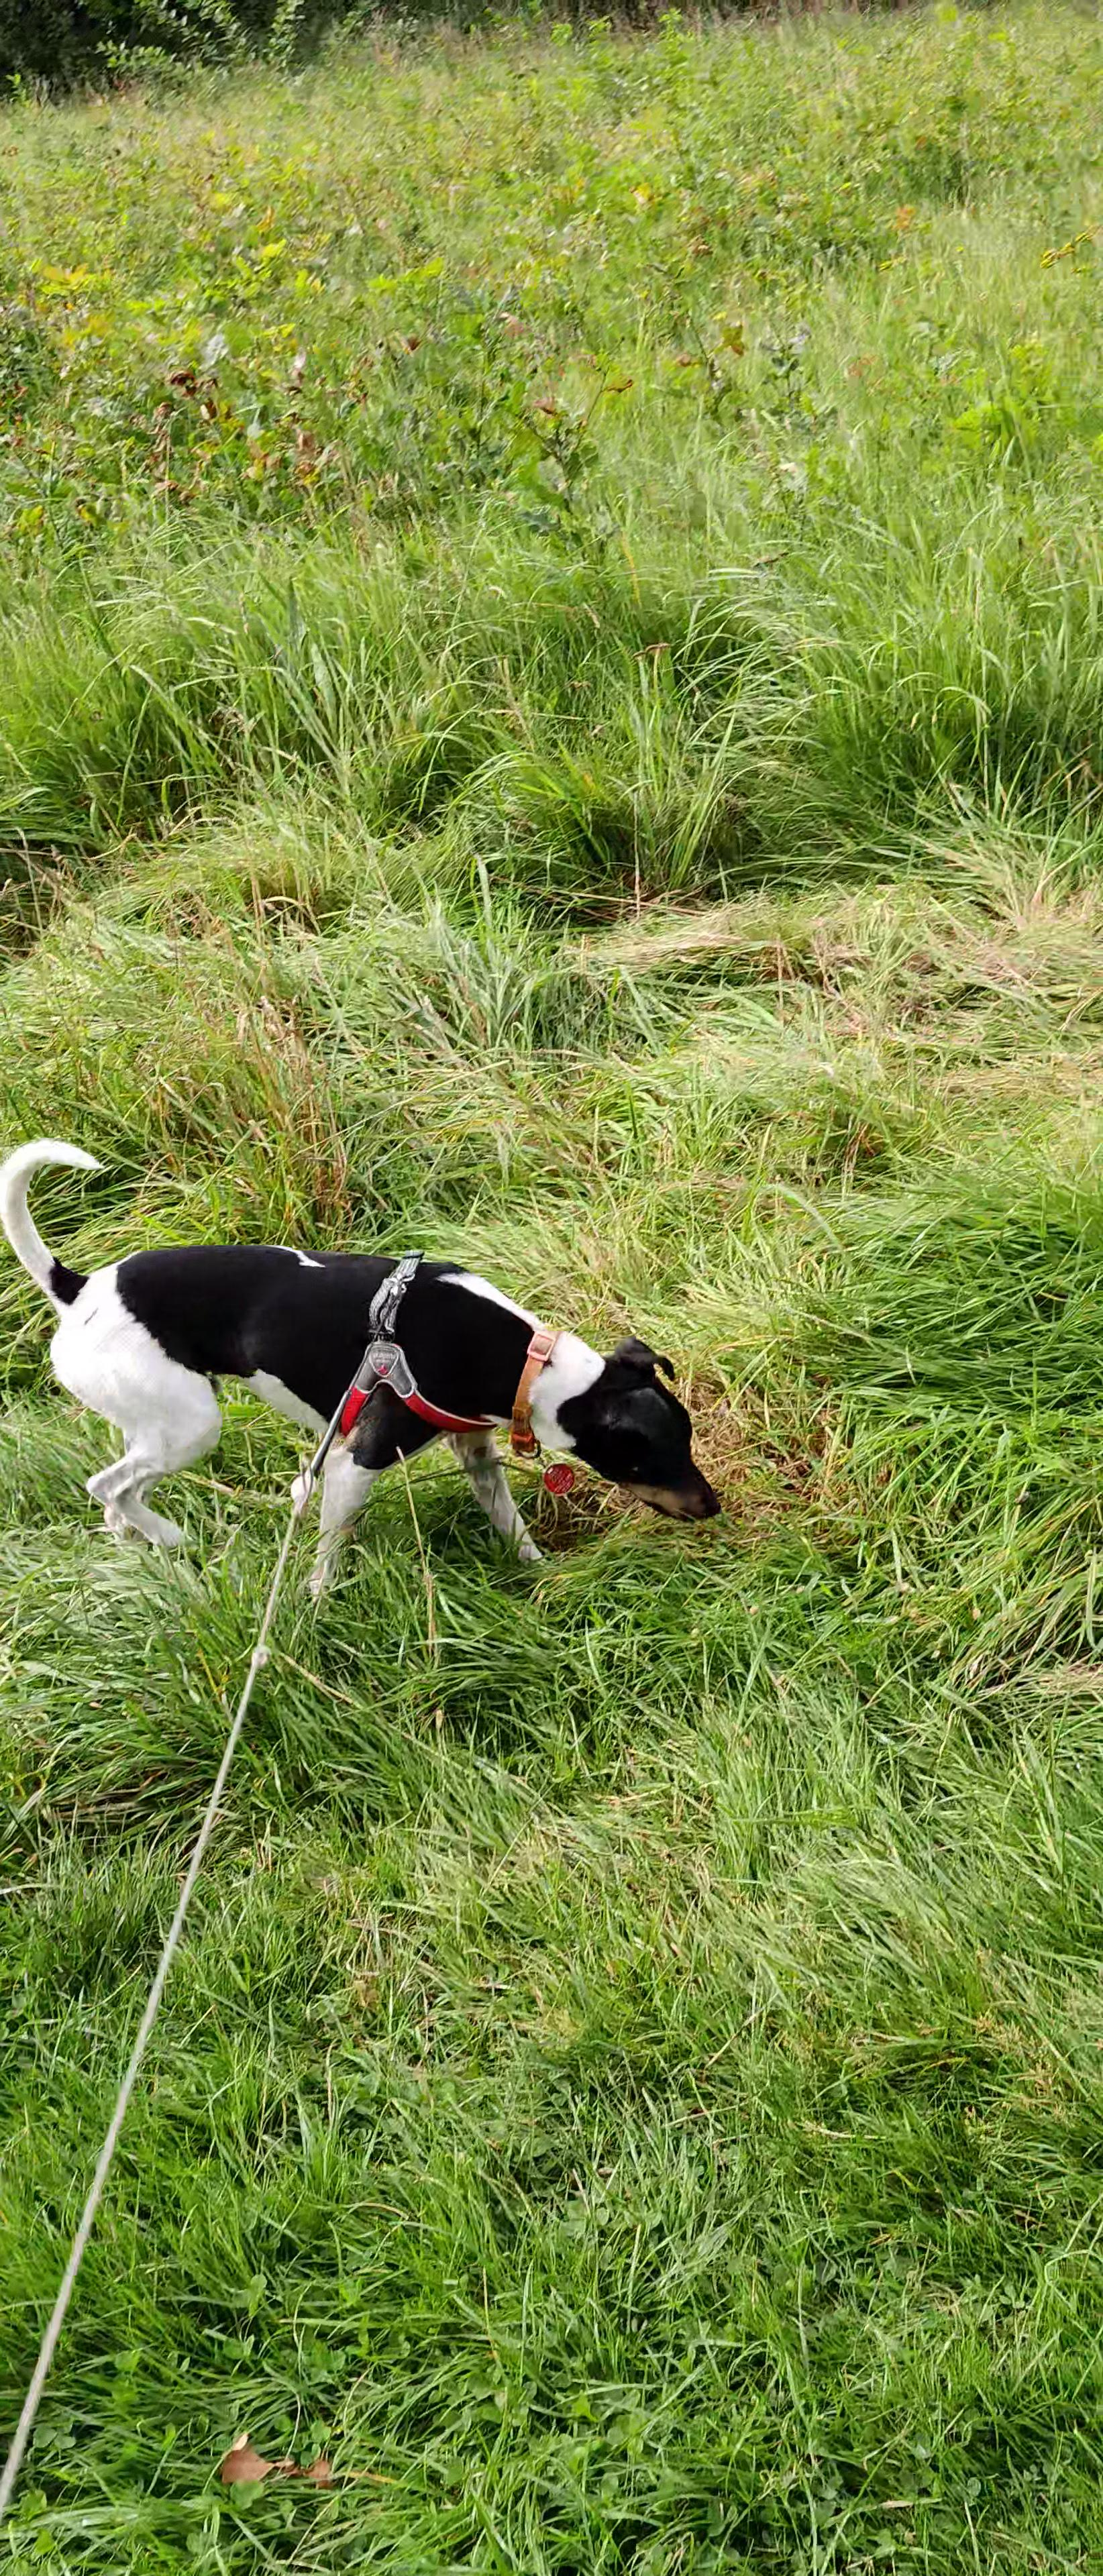Dog: (0, 1132, 725, 1598)
